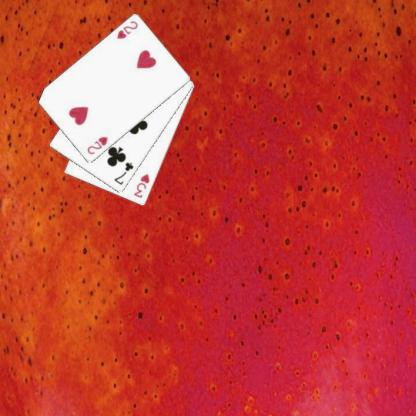2H: (85, 134, 109, 156), (114, 19, 139, 40)
3H: (131, 172, 151, 199)
7C: (112, 160, 135, 186)
